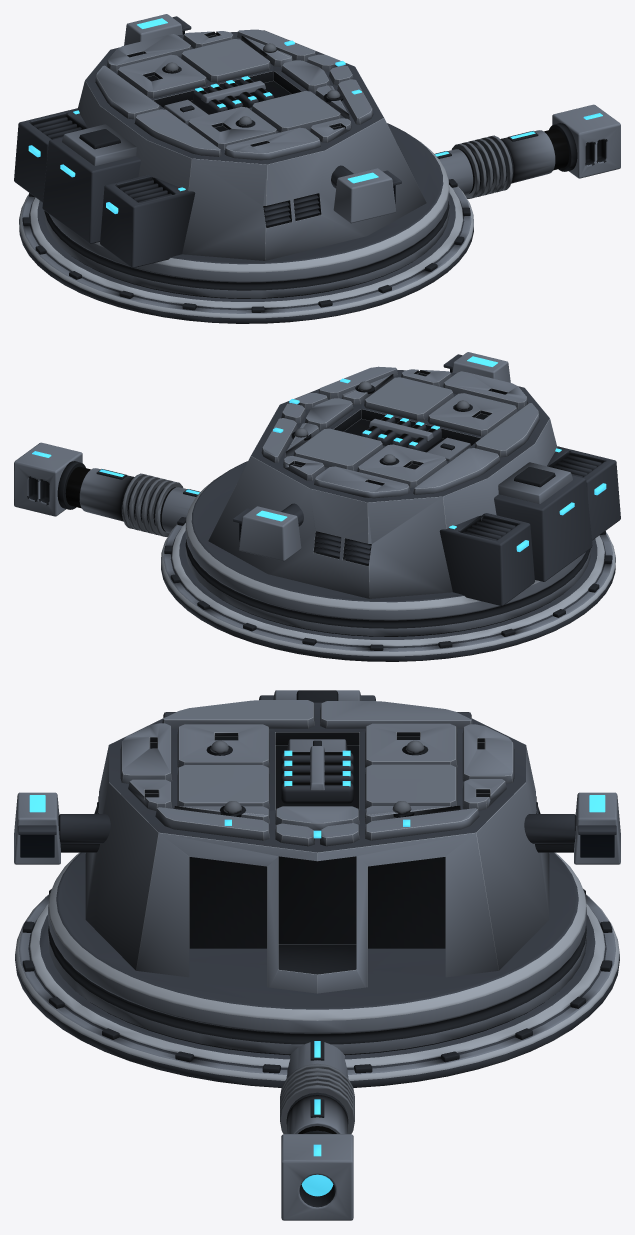
The model's file is yamato.glb.
The picture shows the model from 3 angles, top to bottom: view 1: azimuth 30°, elevation 25°; view 2: azimuth 150°, elevation 25°; view 3: azimuth 270°, elevation 25°; orthographic projection. The views are drawn at different scales.
Parts seen in each view (by area): view 1: housing, ring, barrel; view 2: housing, ring, barrel; view 3: housing, ring, barrel.
Boxes of the visible parts, left/top/right/bottom form: housing: left=14, top=14, right=449, bottom=298; ring: left=19, top=179, right=473, bottom=323; barrel: left=434, top=104, right=620, bottom=198; housing: left=185, top=352, right=620, bottom=636; ring: left=161, top=517, right=615, bottom=661; barrel: left=14, top=442, right=200, bottom=536; housing: left=14, top=690, right=620, bottom=1055; ring: left=15, top=889, right=619, bottom=1087; barrel: left=280, top=1041, right=354, bottom=1220.
Size of the model in its own units: 64.9 by 19.63 by 45.97.
